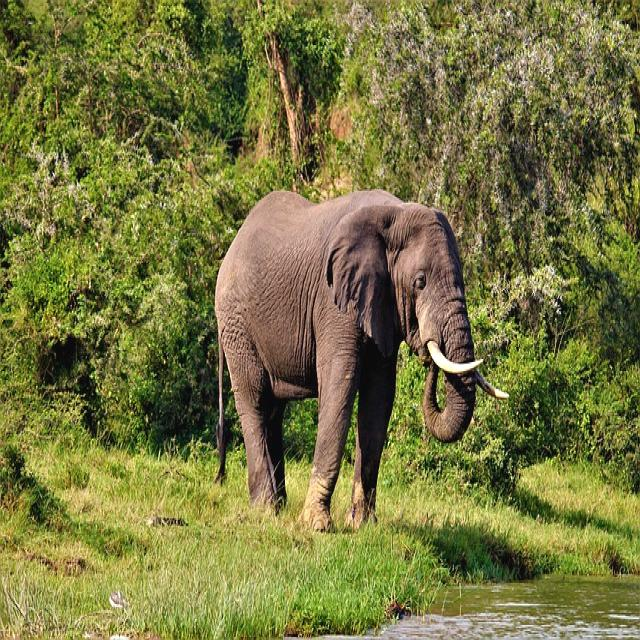FIL: (182, 184, 489, 528)
